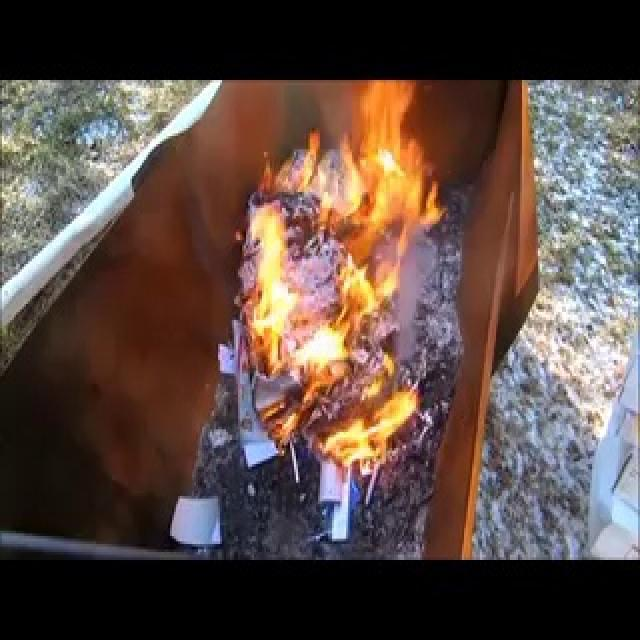fire: (232, 79, 454, 468)
